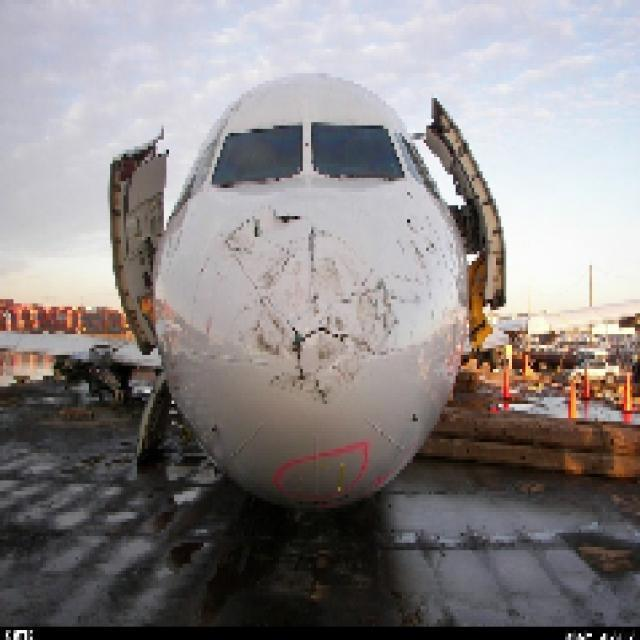crack: (214, 206, 400, 414)
